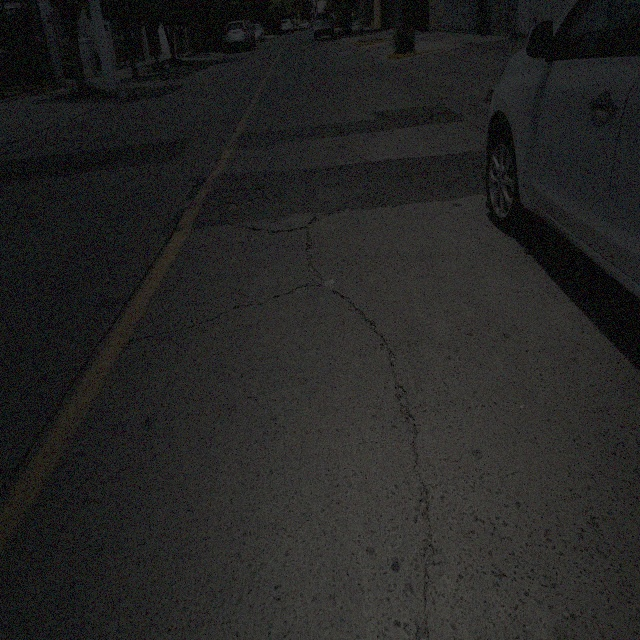pothole: (303, 228, 316, 271), (222, 199, 247, 215), (86, 159, 110, 166)
